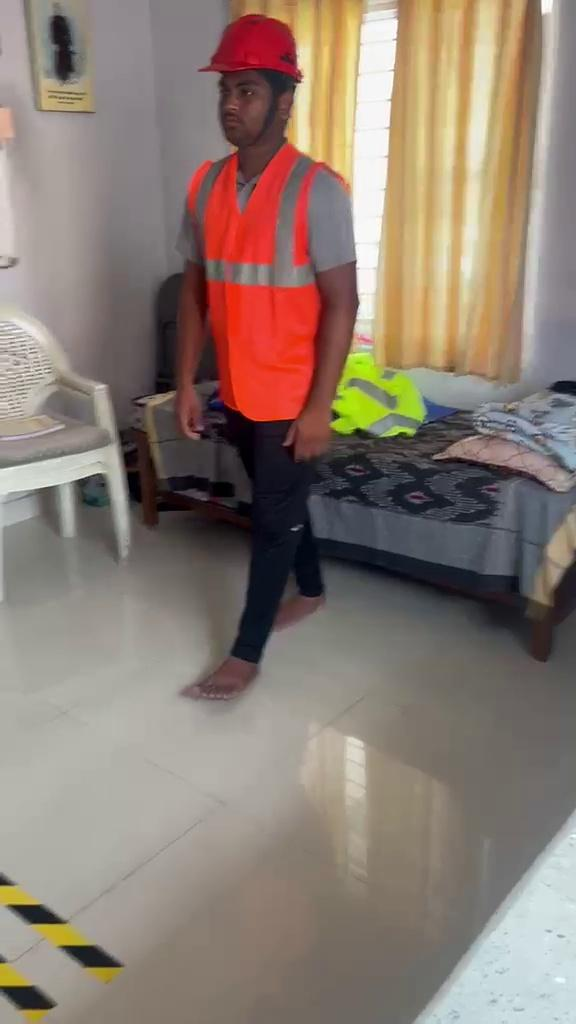Helmet: (198, 13, 303, 85)
Person: (173, 13, 359, 698)
Vest: (188, 141, 352, 422)
